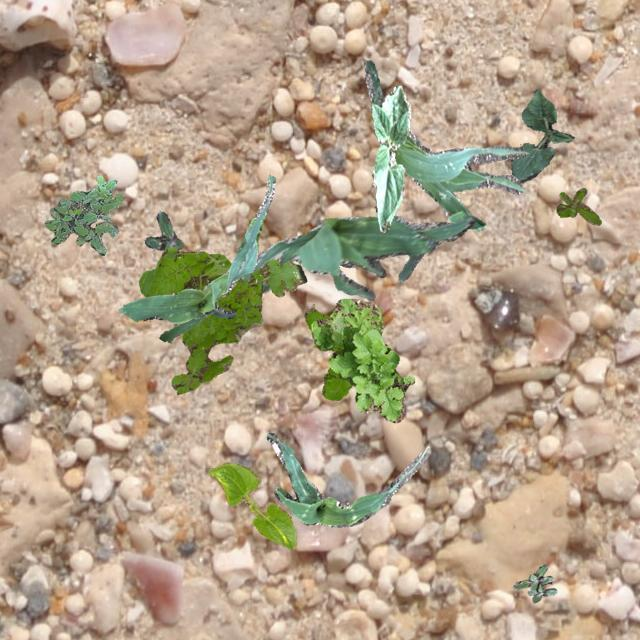crop: (362, 59, 528, 230), (118, 174, 274, 342), (240, 214, 473, 298), (266, 432, 424, 526), (208, 462, 296, 548), (511, 88, 574, 182), (370, 85, 410, 232)
weed: (137, 245, 306, 394), (310, 298, 414, 422), (44, 174, 122, 254), (304, 306, 352, 400), (512, 564, 556, 602), (556, 186, 600, 224), (144, 210, 182, 250)
